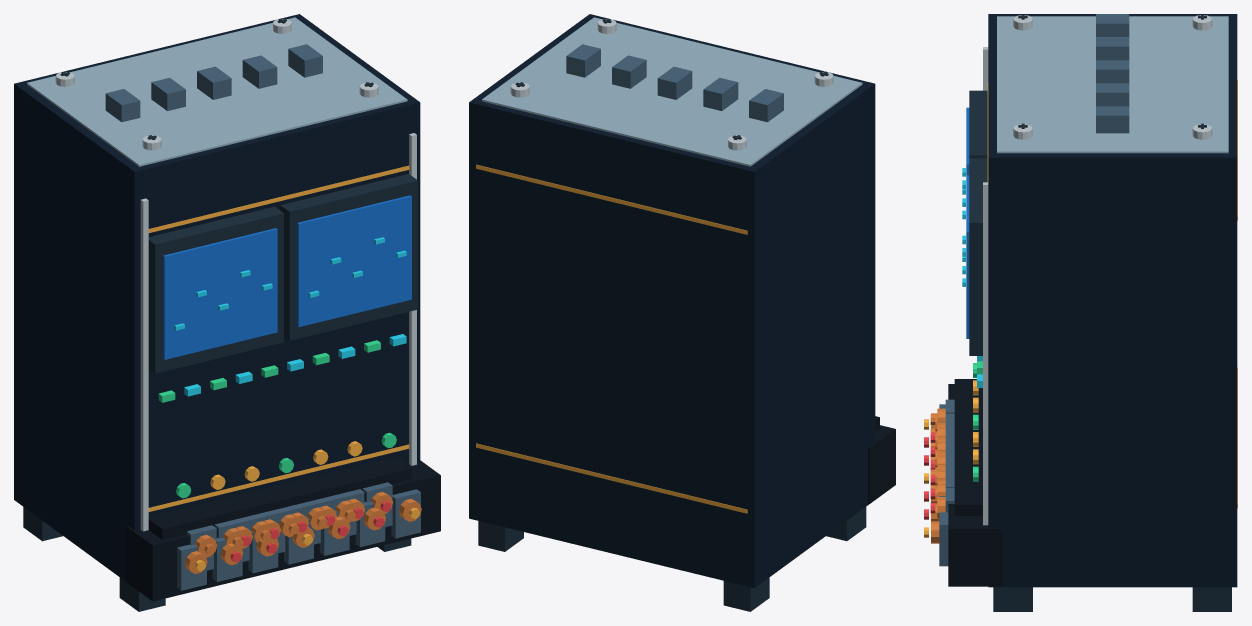
The model's file is 31_L76_MultiZoneCurrentDistributionController.fbx.
The picture shows the model from 3 angles, left to right: view 1: azimuth 30°, elevation 25°; view 2: azimuth 150°, elevation 25°; view 3: azimuth 270°, elevation 25°; orthographic projection. The views are drawn at different scales.
Parts seen in each view (by area): view 1: MultiZoneCurrentDistributionController; view 2: MultiZoneCurrentDistributionController; view 3: MultiZoneCurrentDistributionController.
Part boxes in pixels (x1,y1,x2,y2): MultiZoneCurrentDistributionController: [14, 14, 440, 611]; MultiZoneCurrentDistributionController: [469, 14, 895, 611]; MultiZoneCurrentDistributionController: [924, 14, 1237, 611].
Bounding box in the file's own units: 113 × 173 × 103.
